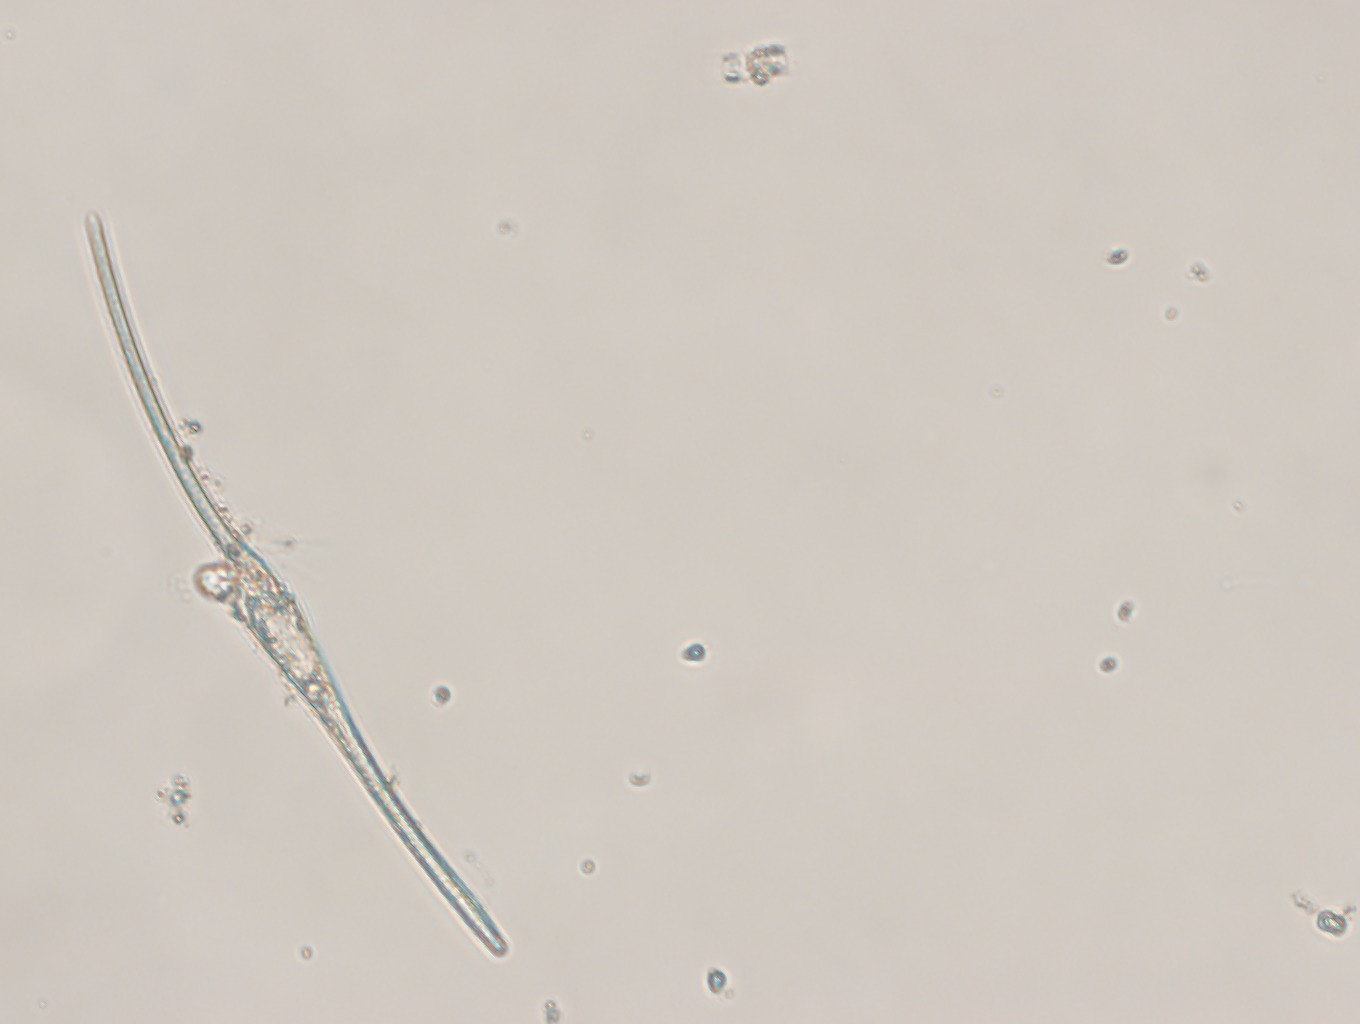ceratium fusus: (70, 201, 514, 968)
